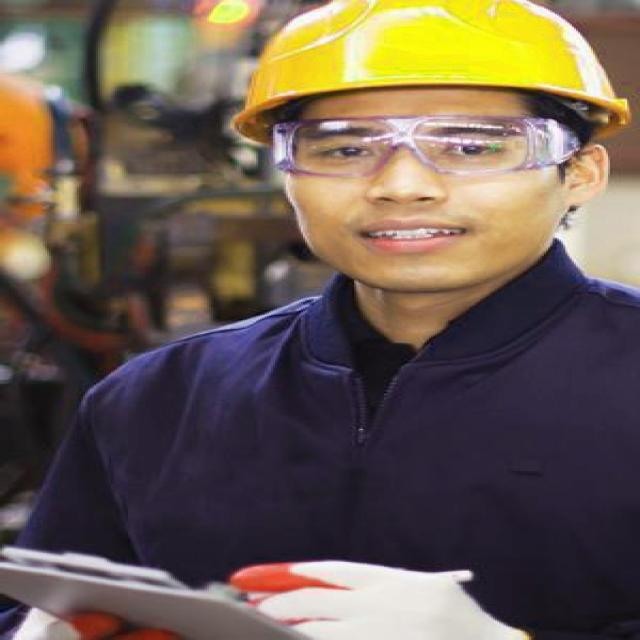face_nomask: (275, 96, 563, 284)
glasses: (264, 110, 568, 181)
head_helmet: (222, 0, 640, 129)
person: (19, 5, 638, 636)
